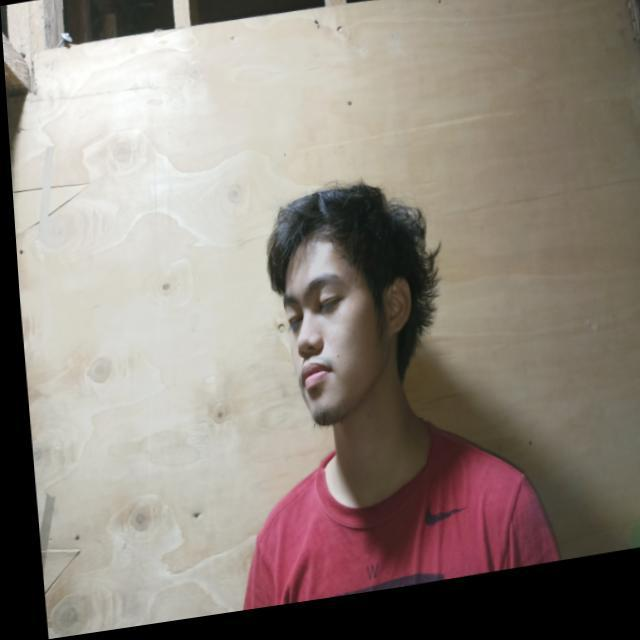Nonhelmet: (262, 178, 443, 427)
